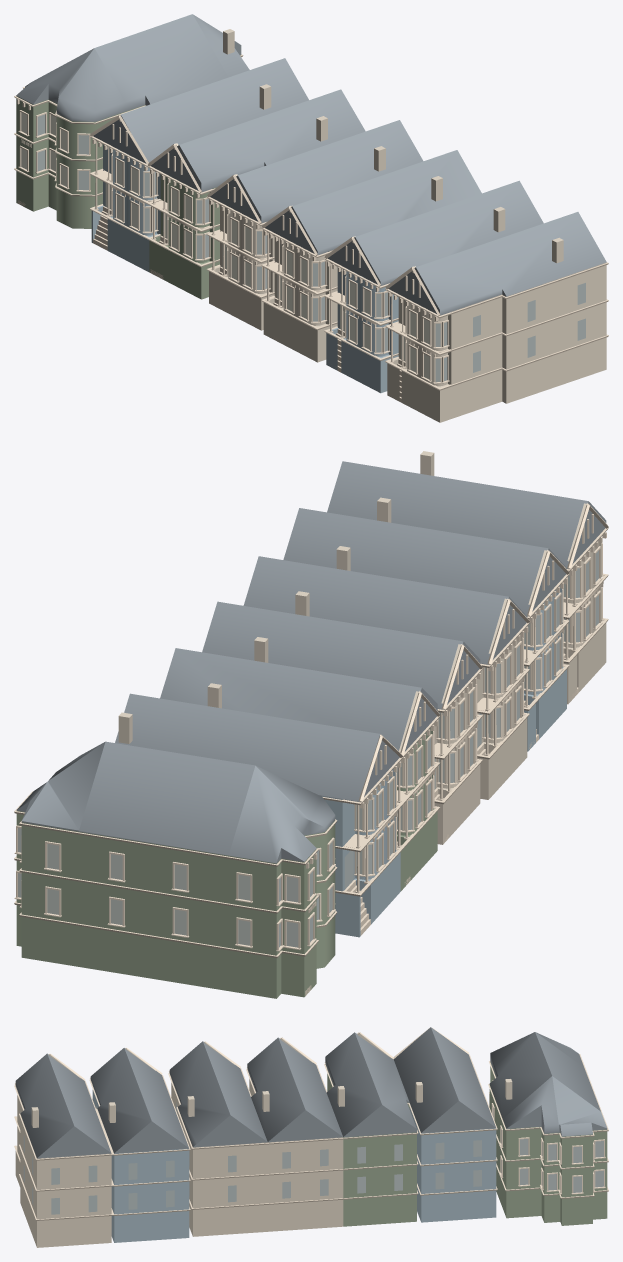
File: detail.glb
3 renders of one model, top to bottom at view 1: azimuth 30°, elevation 25°; view 2: azimuth 150°, elevation 25°; view 3: azimuth 270°, elevation 25°, orthographic. The views are drawn at different scales.
Parts seen in each view (by area): view 1: roof, stone, trim, metal, window, glass; view 2: roof, metal, trim, stone, window, glass; view 3: roof, stone, metal, glass, trim, window.
Part boxes in pixels (x1,y1,x2,y2): roof: (16,14,606,315); stone: (172,29,606,422); trim: (14,54,608,402); metal: (16,55,240,299); window: (21,112,585,382); glass: (91,144,398,393); roof: (16,461,606,863); metal: (16,728,437,998); trim: (14,503,608,995); stone: (118,451,606,844); window: (18,550,598,947); glass: (321,585,566,937); roof: (15,1027,607,1158); stone: (15,1033,512,1247); metal: (327,1062,607,1226); glass: (92,1085,496,1242); trim: (14,1028,608,1220); window: (20,1095,603,1214).
Bounding box in the file's own units: 24.16 × 13 × 54.26.
